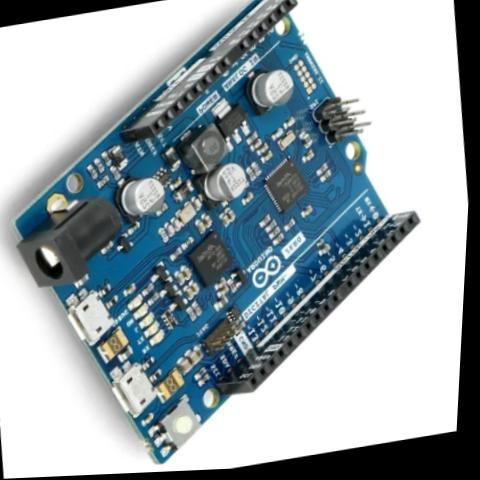Arduino-Zero: (0, 0, 478, 472)
